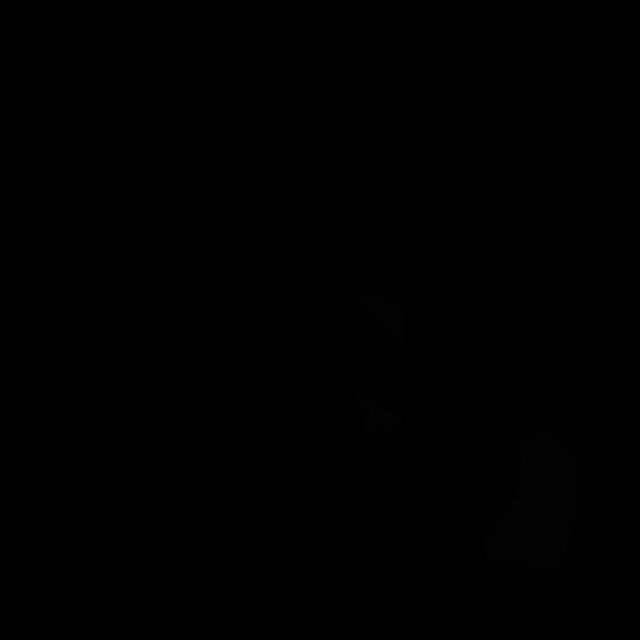cardboard: (484, 429, 578, 571), (361, 287, 404, 347), (356, 391, 404, 435)
